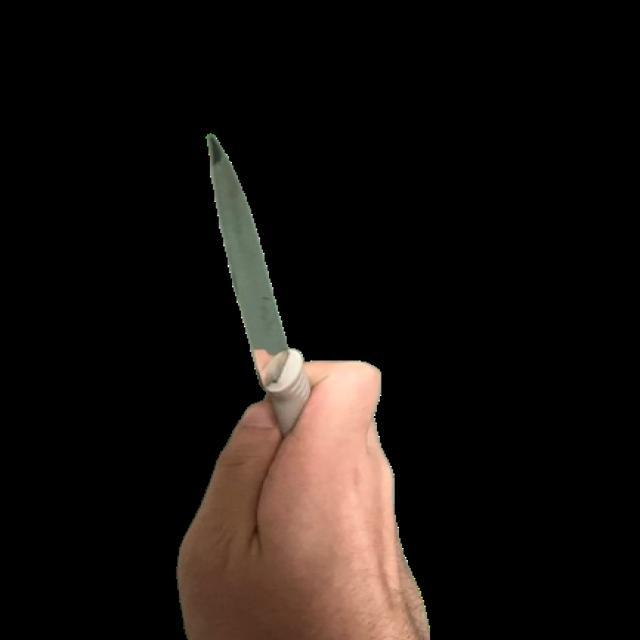knife: (207, 135, 310, 428)
